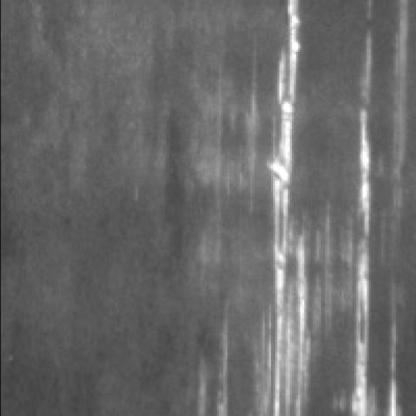scratches: (248, 2, 312, 414), (343, 41, 401, 416)
